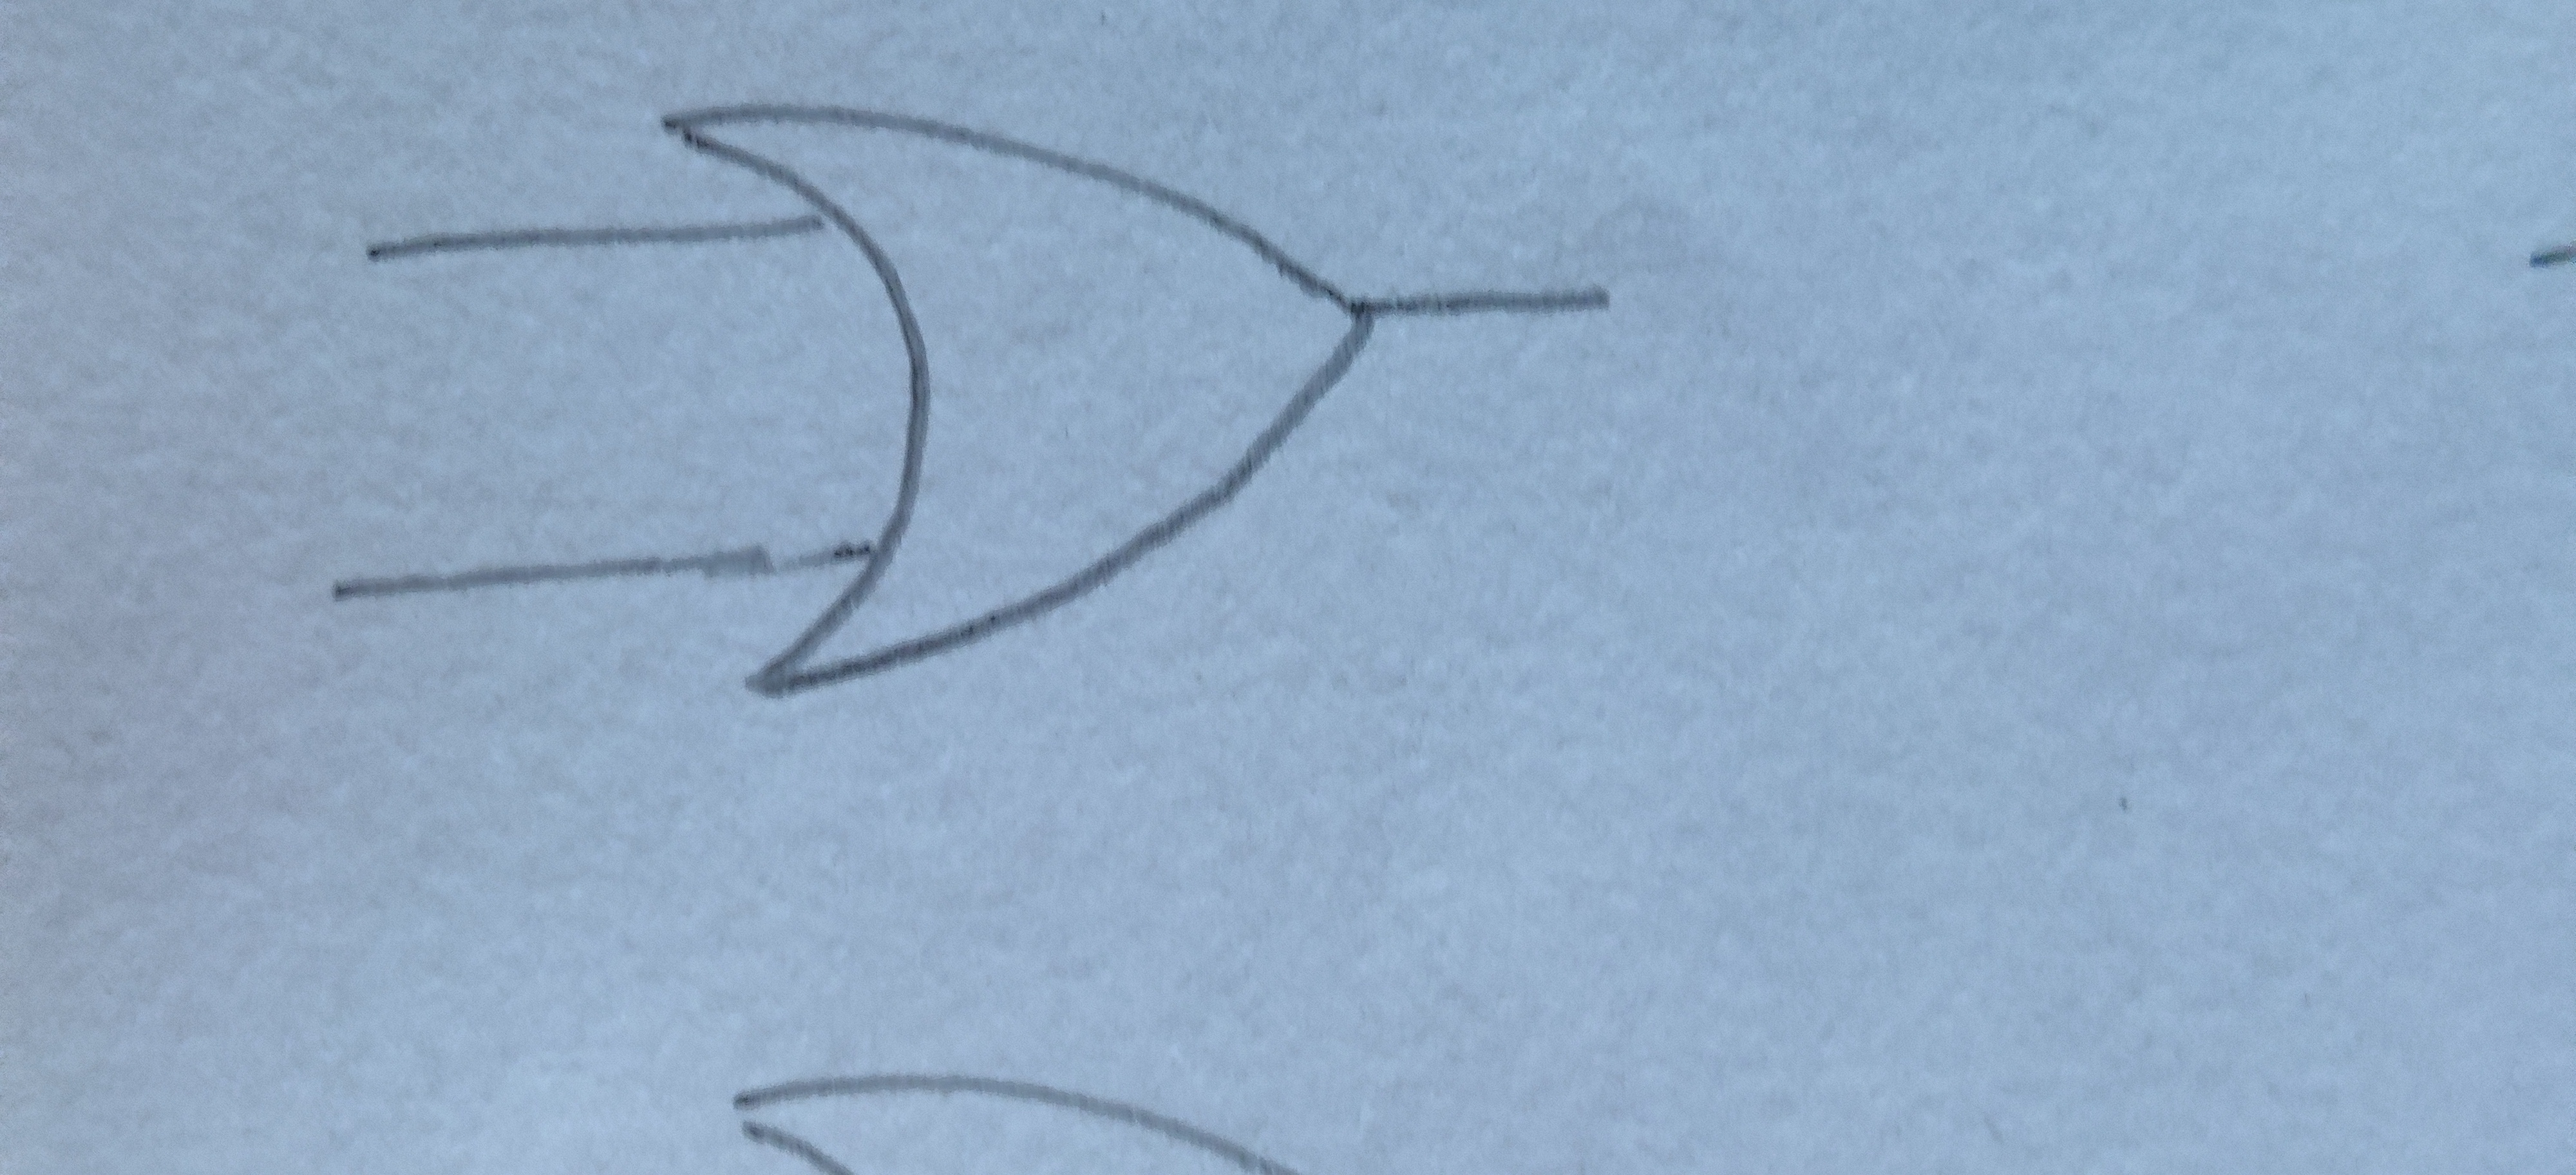or: (670, 105, 1367, 692)
